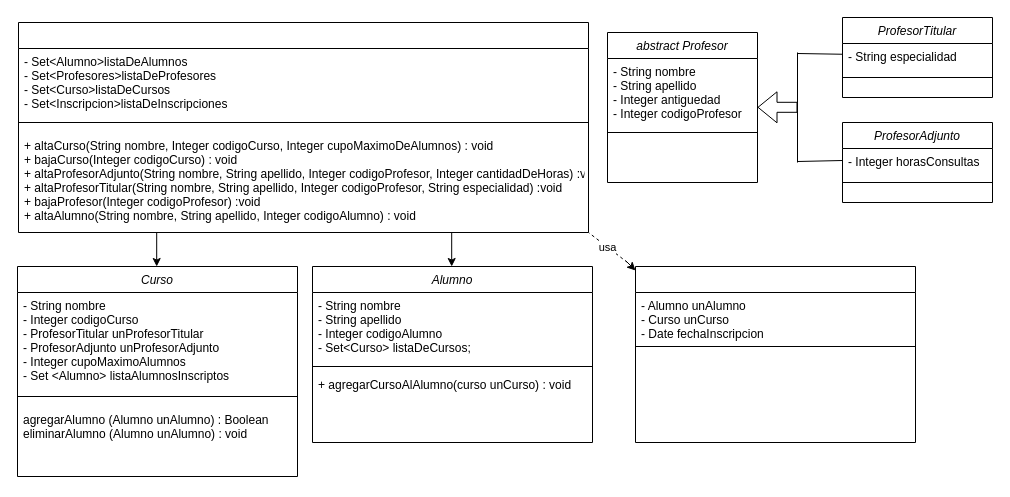
Image size: 1010x497. Some labels were removed from this diagram. Each missing label, with the box of its shape:
DHManager: (18, 22, 588, 232)
Inscripción: (634, 266, 916, 442)
